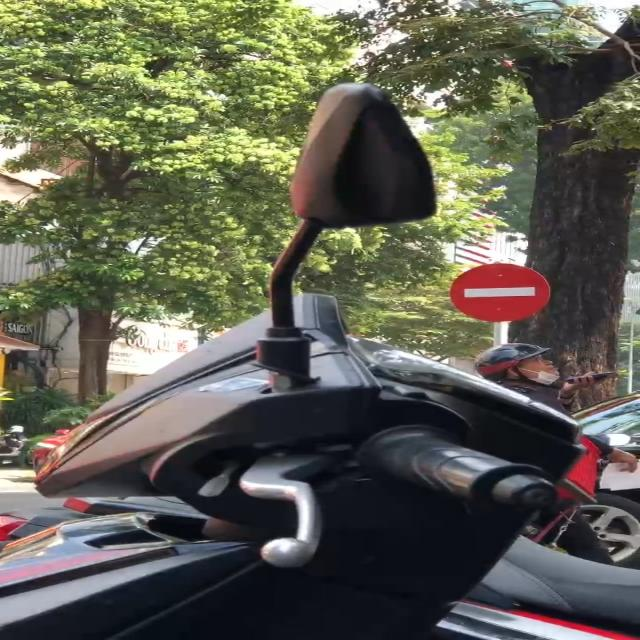Bien bao cam di nguoc chieu: (436, 258, 556, 322)
